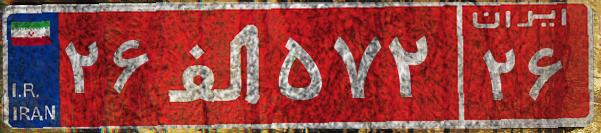2: (385, 28, 445, 110), (57, 26, 110, 107), (475, 38, 525, 113)
5: (273, 28, 330, 110)
6: (110, 28, 158, 105), (525, 38, 570, 115)
7: (330, 28, 385, 110)
الف: (158, 15, 273, 115)
